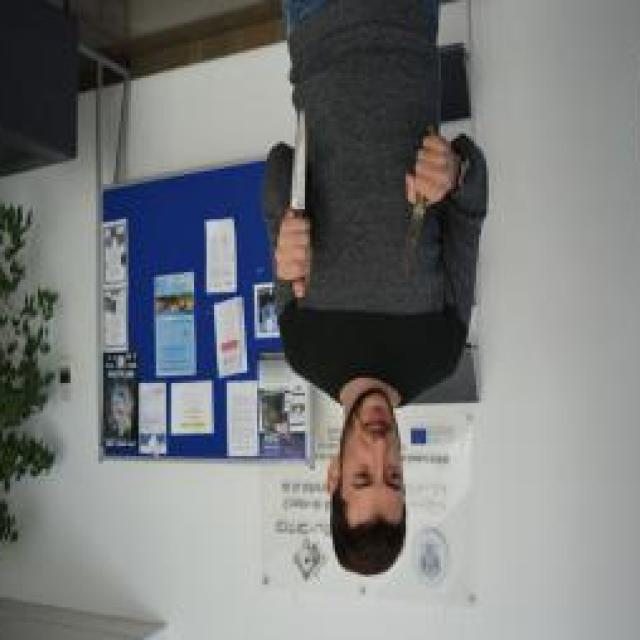knife: (401, 126, 441, 280), (287, 103, 311, 227)
